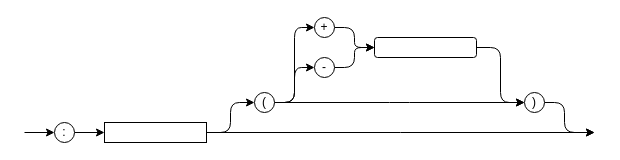
This 620x160 diagram has some shape labels left out. Each missing label, with the centre of its shape:
"now" belongs at point (155, 132).
"offset" belongs at point (425, 47).
